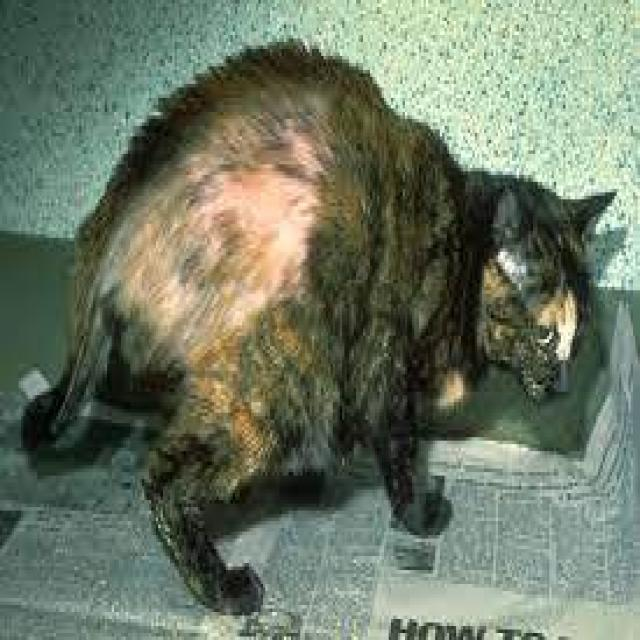cat-hairloss: (189, 156, 311, 286)
